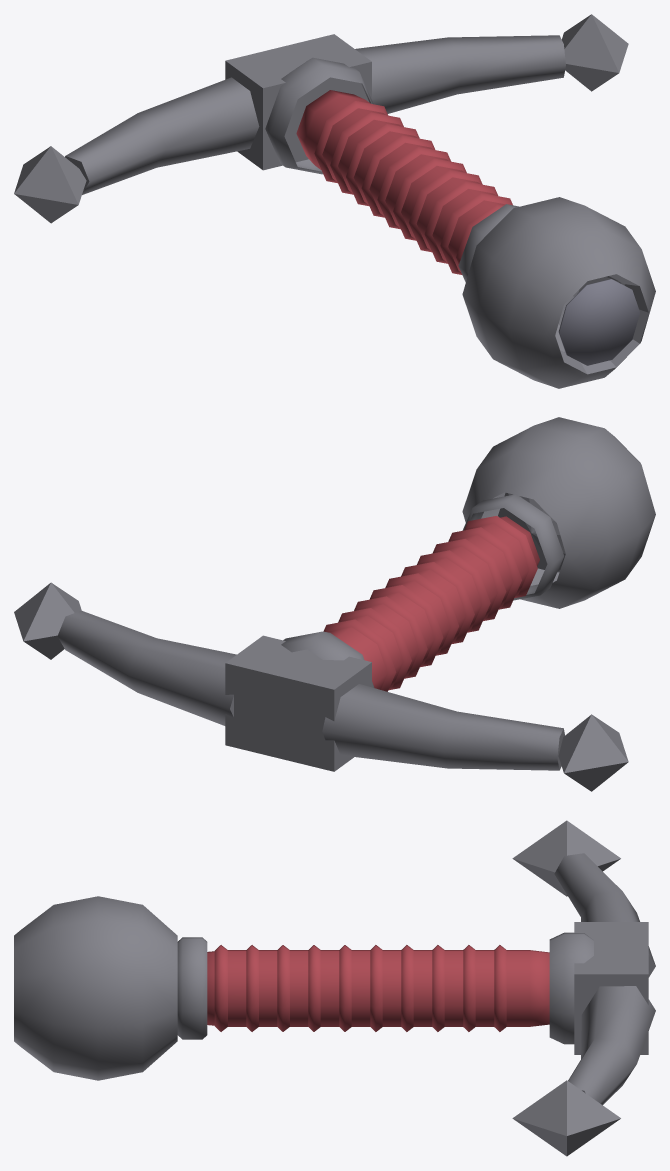
File: RelicHilt.fbx
3 views of the same model, one above another, from view 1: azimuth 30°, elevation 25°; view 2: azimuth 150°, elevation 25°; view 3: azimuth 270°, elevation 25° (orthographic).
Visible parts, largest first — view 1: RelicHilt; view 2: RelicHilt; view 3: RelicHilt.
Boxes of the visible parts, x1,y1,x2,y2 form: RelicHilt: (14, 14, 655, 388); RelicHilt: (14, 417, 655, 791); RelicHilt: (14, 820, 655, 1156).
Size of the model in its own units: 0.282 by 0.0713 by 0.259.
